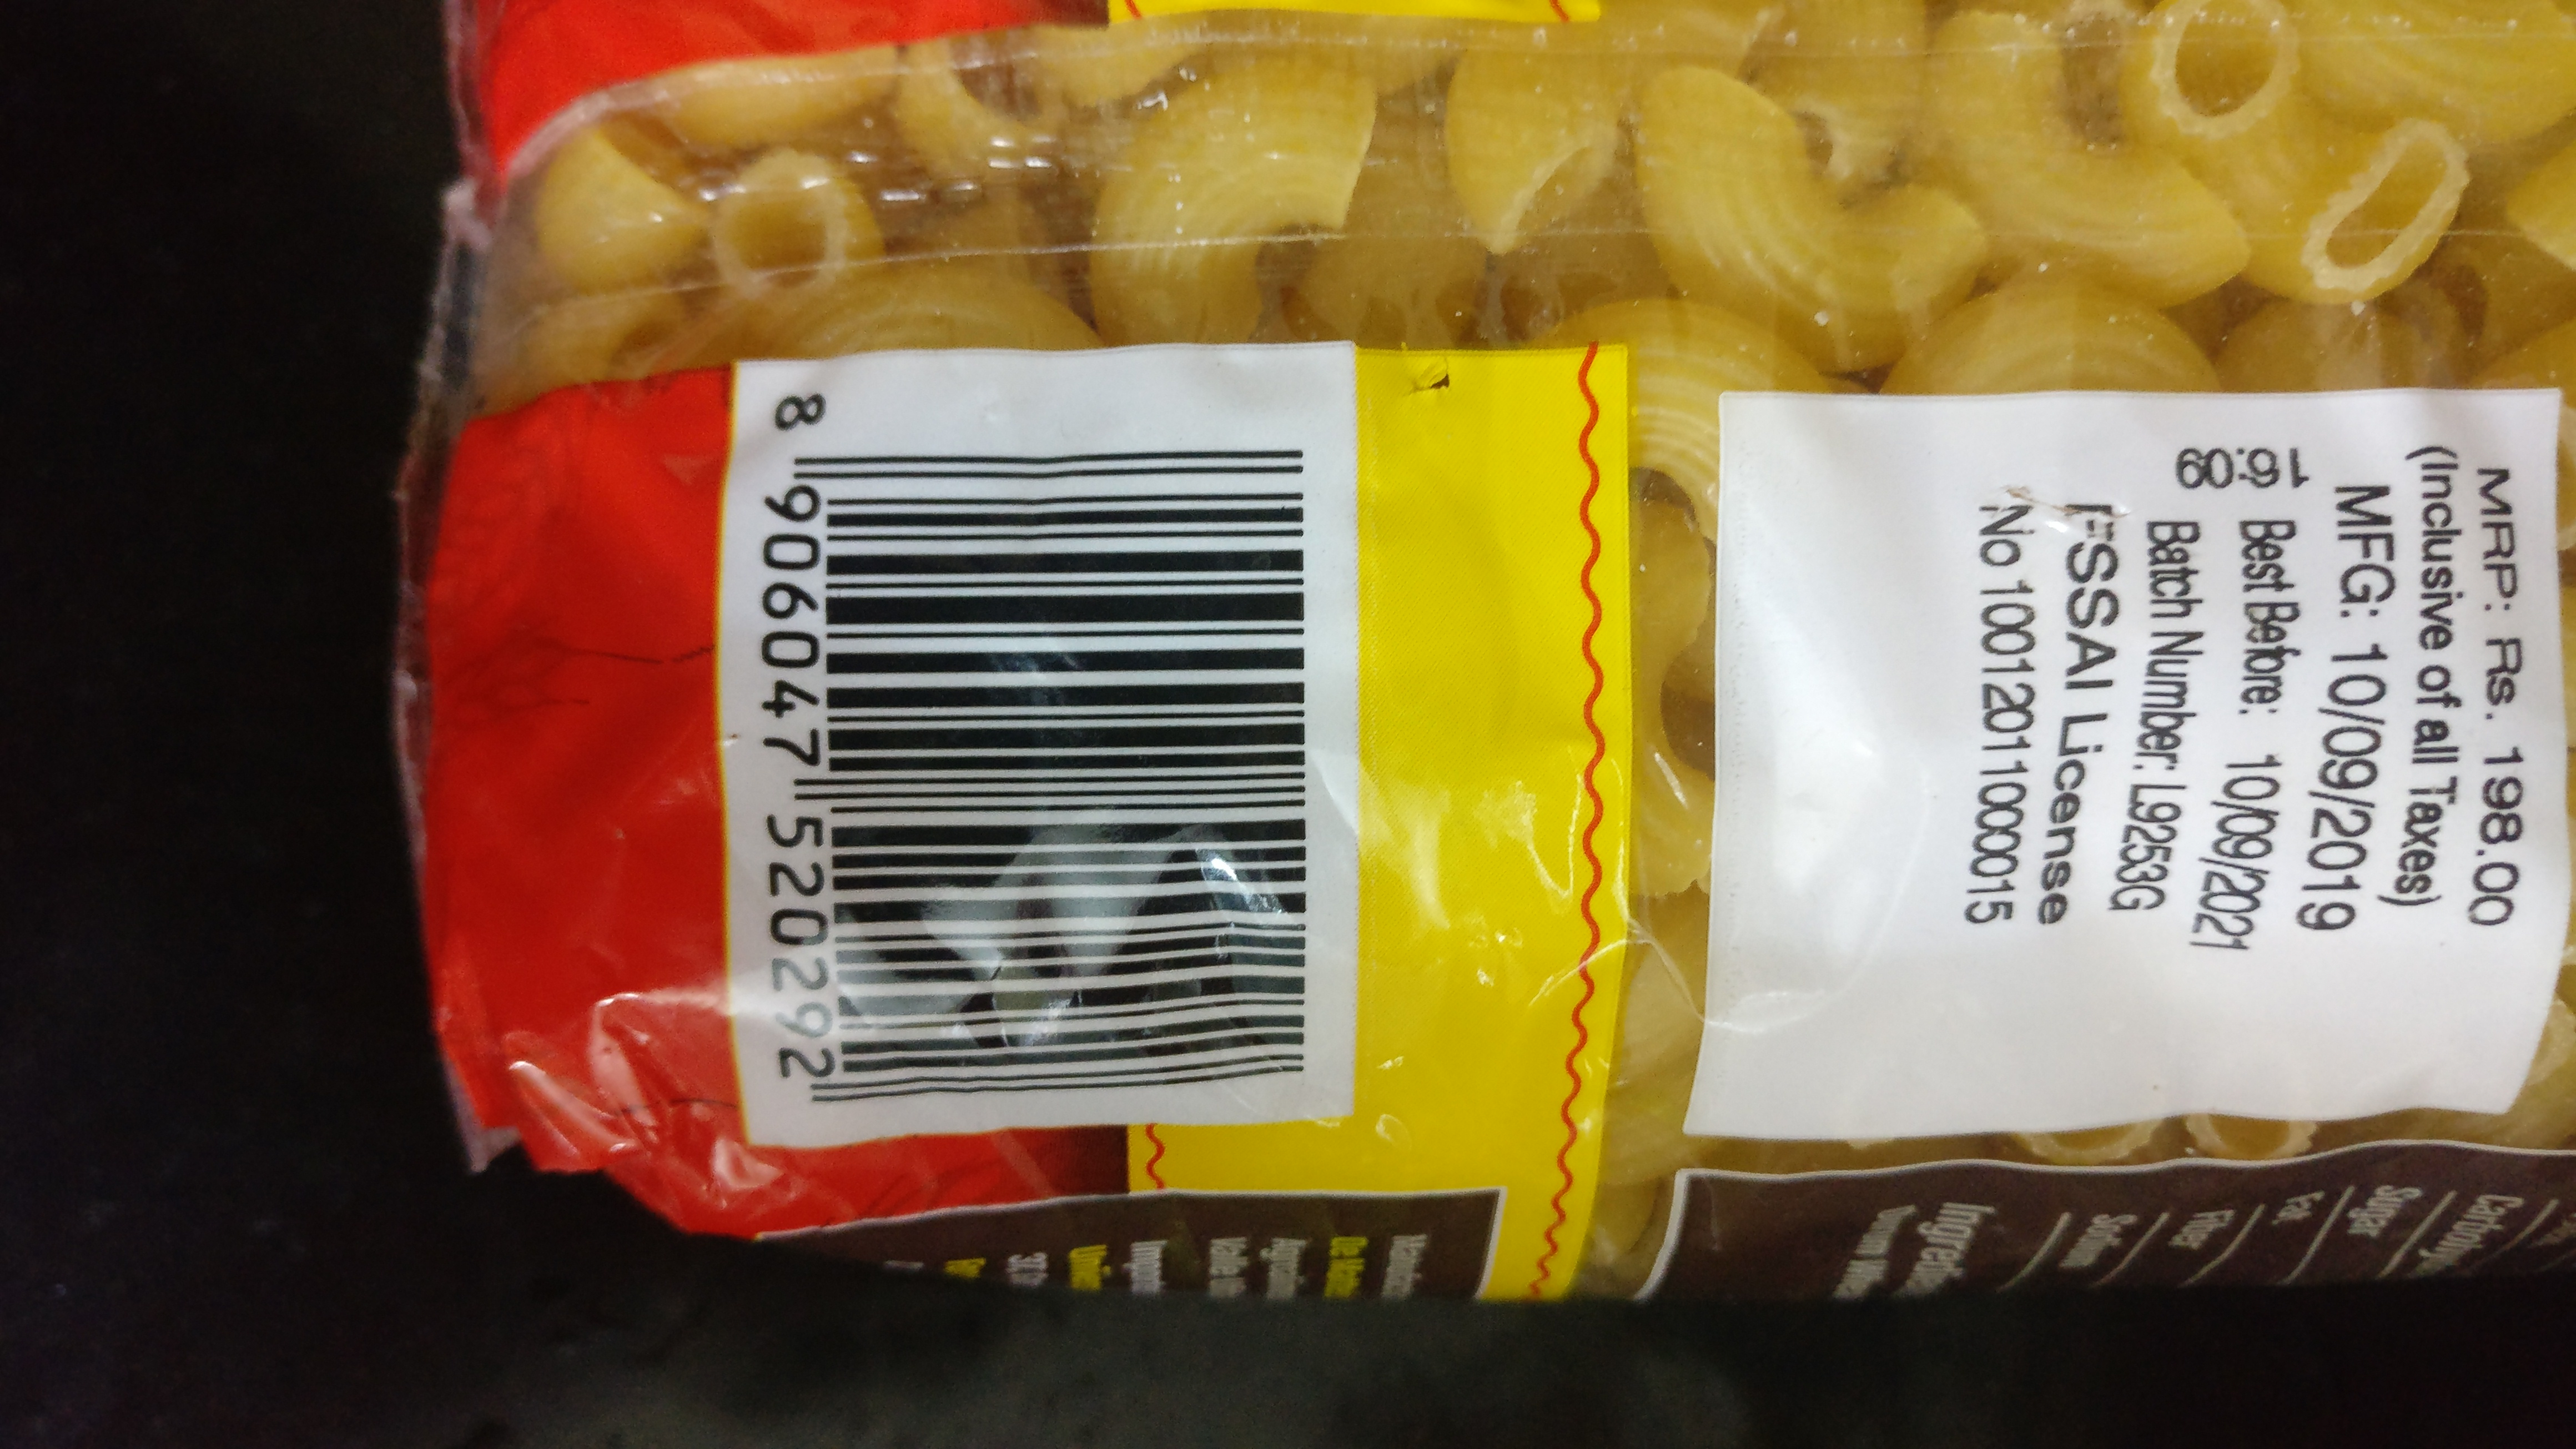barcode: (727, 363, 1338, 1129)
